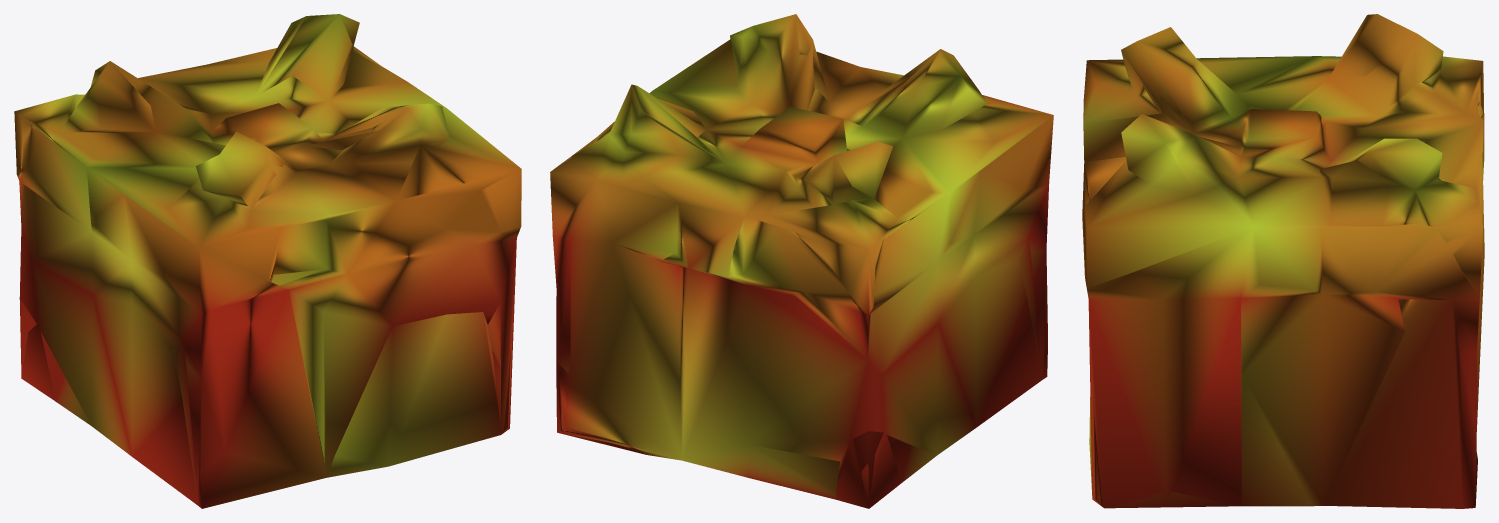
The model's file is gen3d-gift-box-lod1.glb.
3 renders of one model, left to right at view 1: azimuth 30°, elevation 25°; view 2: azimuth 150°, elevation 25°; view 3: azimuth 270°, elevation 25°, orthographic. The views are drawn at different scales.
Parts seen in each view (by area): view 1: part_0; view 2: part_0; view 3: part_0.
Part boxes in pixels (box(x1,y1,x2,y2)): part_0: box(14, 14, 521, 508); part_0: box(550, 14, 1053, 508); part_0: box(1082, 14, 1484, 508).
Size of the model in its own units: 1.03 by 0.9998 by 1.02.
